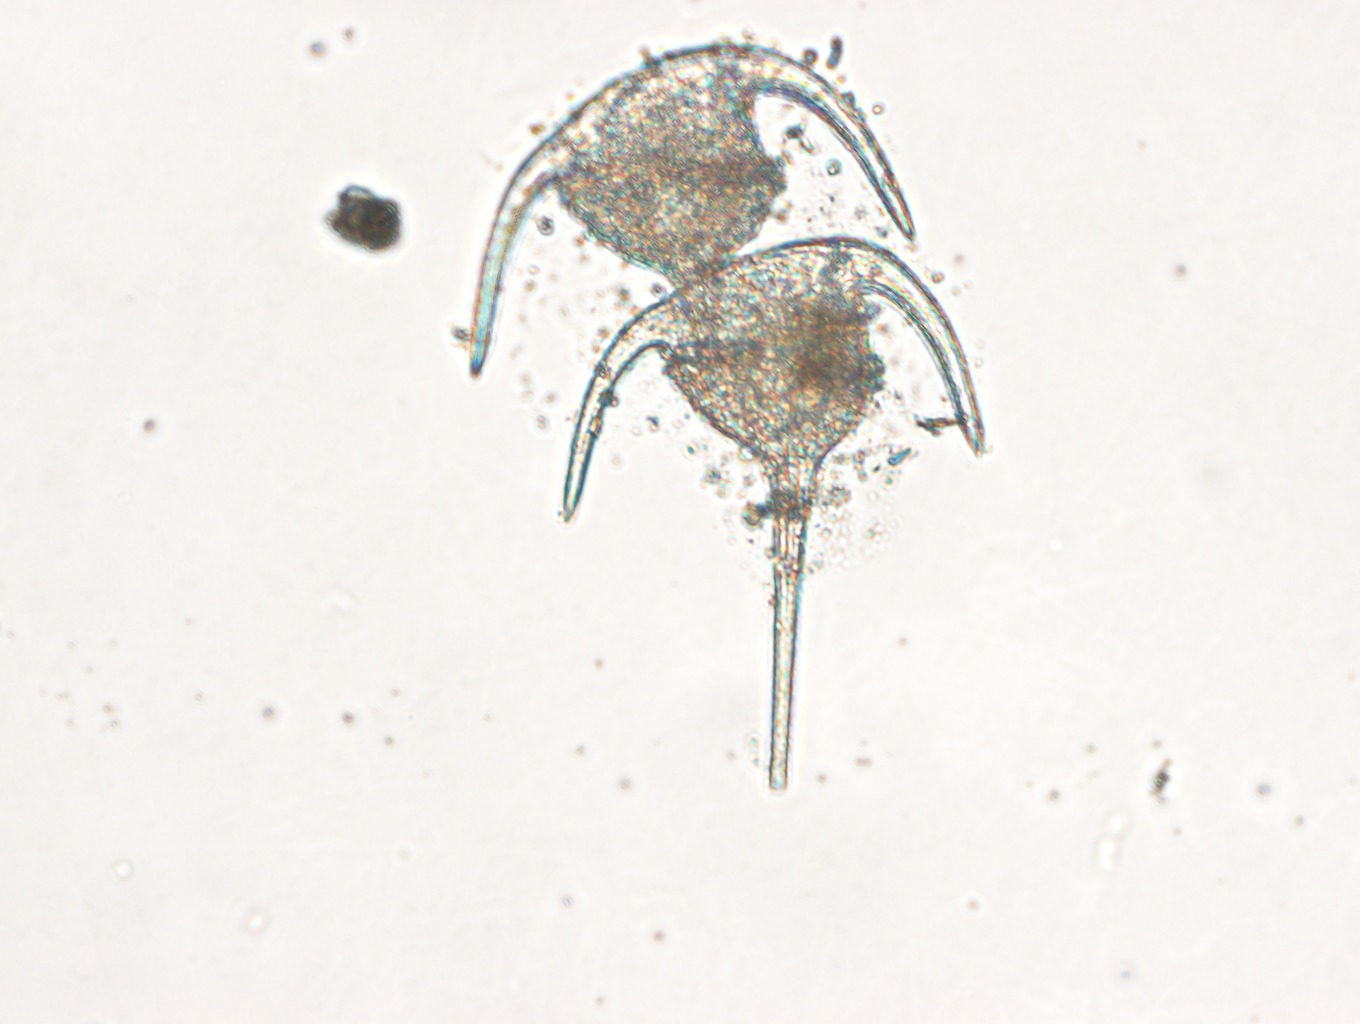ceratium tripos: (560, 236, 986, 793), (469, 41, 915, 379)
